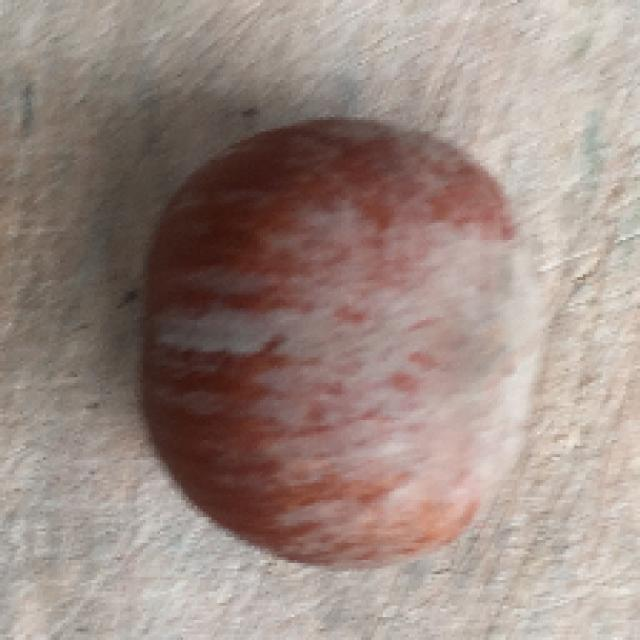QualityHazelnut: (141, 121, 544, 571)
